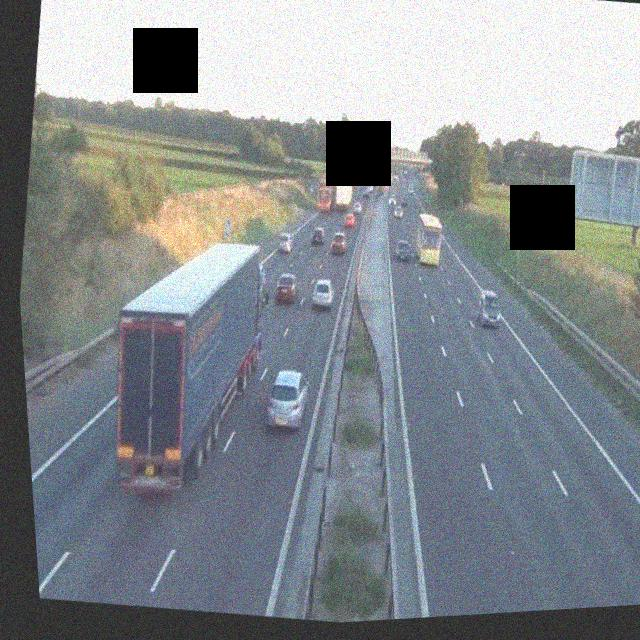bus: (408, 211, 447, 268)
car: (262, 366, 313, 431), (474, 286, 505, 329), (273, 269, 301, 306), (310, 278, 337, 310), (275, 232, 296, 257), (393, 238, 412, 263), (308, 228, 324, 250), (342, 212, 357, 231), (392, 205, 404, 219)
truck: (91, 227, 286, 506)
